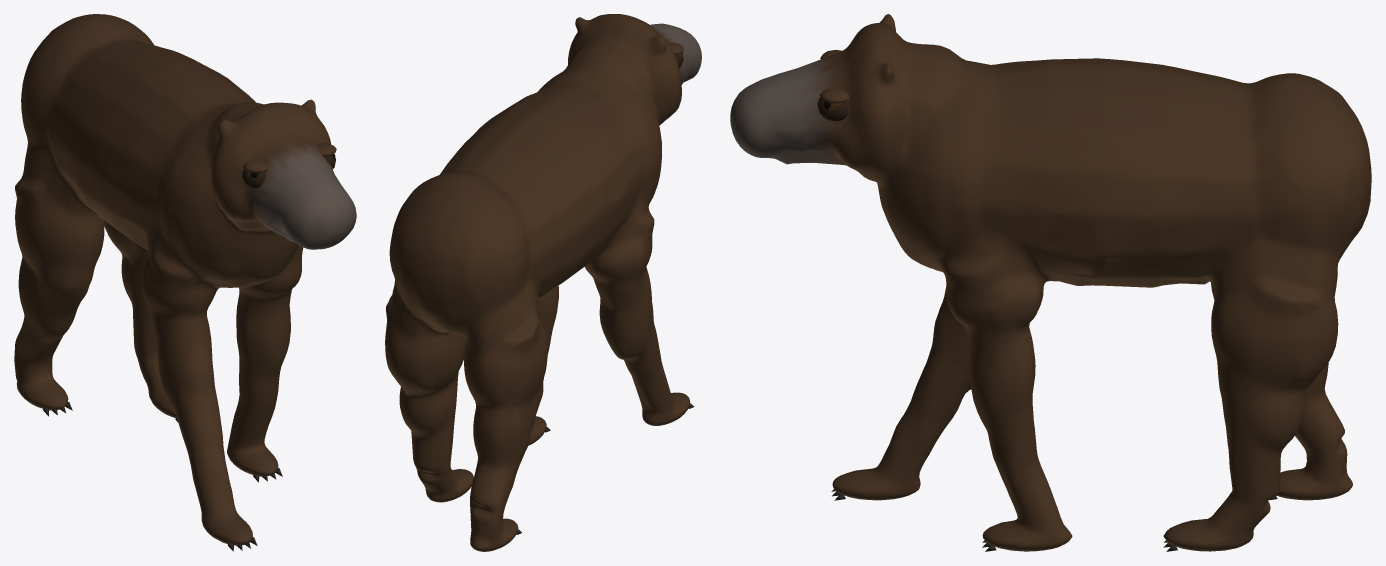
The model's file is ProconsulAfricanus.fbx.
The picture shows the model from 3 angles, left to right: view 1: azimuth 30°, elevation 25°; view 2: azimuth 150°, elevation 25°; view 3: azimuth 270°, elevation 25°; orthographic projection. The views are drawn at different scales.
Visible parts, largest first — view 1: ProconsulAfricanus; view 2: ProconsulAfricanus; view 3: ProconsulAfricanus.
Boxes of the visible parts, <box> form: ProconsulAfricanus: <box>14,14,356,551</box>; ProconsulAfricanus: <box>385,14,701,551</box>; ProconsulAfricanus: <box>730,14,1371,551</box>.
Size of the model in its own units: 0.3013 by 0.778 by 0.9192.
